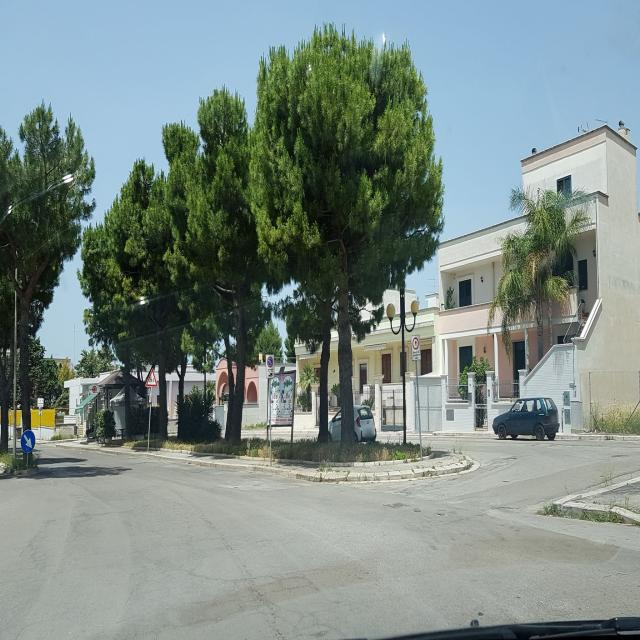forb_stopping: (267, 356, 273, 368)
